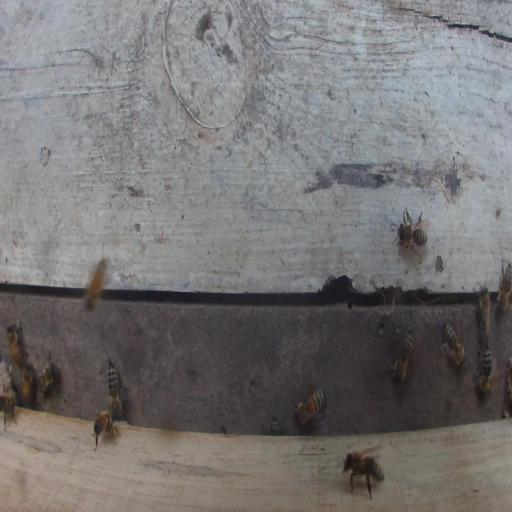nonpollenbee: (341, 449, 385, 500), (391, 207, 430, 259), (390, 329, 415, 386), (293, 384, 326, 426), (440, 322, 466, 368), (473, 340, 492, 396), (473, 282, 491, 339), (93, 410, 118, 451), (107, 358, 123, 421), (7, 321, 28, 368), (37, 357, 57, 400), (497, 262, 512, 314), (0, 391, 18, 430), (20, 362, 35, 408), (269, 417, 280, 436)
